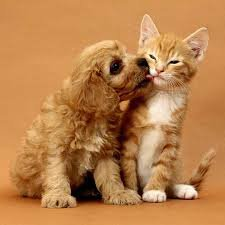cat: (134, 13, 220, 180)
dog: (29, 37, 145, 203)
